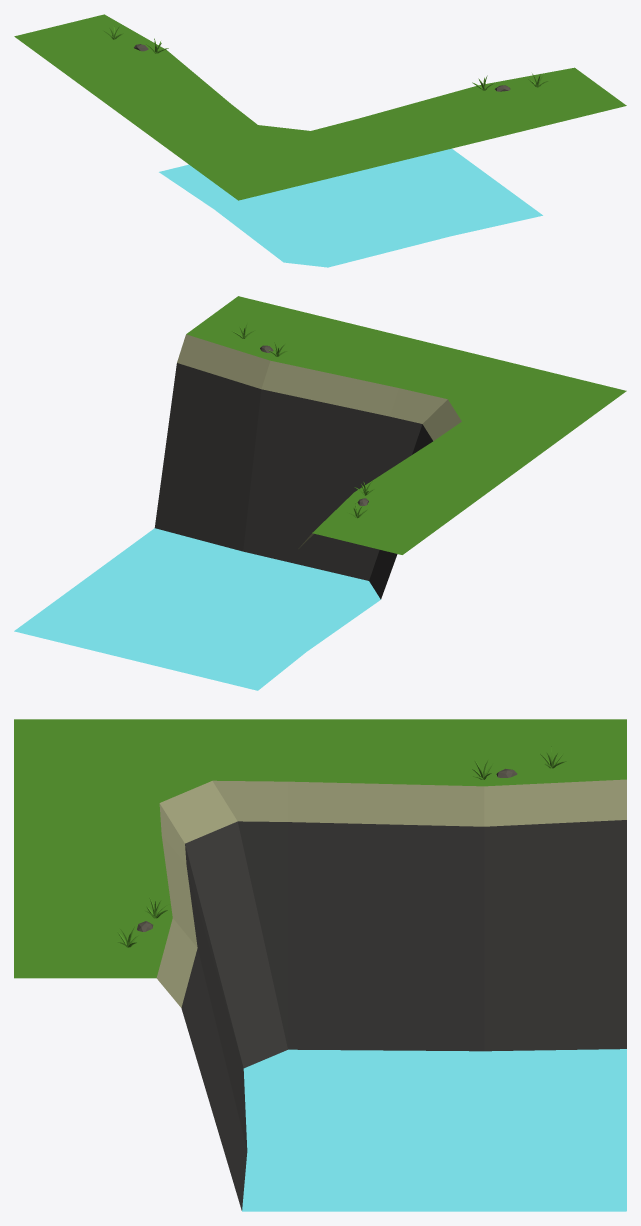
The model's file is Water_CornerOutside.fbx.
3 views of the same model, one above another, from view 1: azimuth 30°, elevation 25°; view 2: azimuth 150°, elevation 25°; view 3: azimuth 270°, elevation 25° (orthographic). The views are drawn at different scales.
Visible parts, largest first — view 1: Water_CornerOutside; view 2: Water_CornerOutside; view 3: Water_CornerOutside.
Boxes of the visible parts, bbox=[...] form: Water_CornerOutside: bbox=[14, 14, 626, 267]; Water_CornerOutside: bbox=[14, 296, 626, 690]; Water_CornerOutside: bbox=[14, 719, 626, 1211].
Size of the model in its own units: 500 by 228 by 500.
